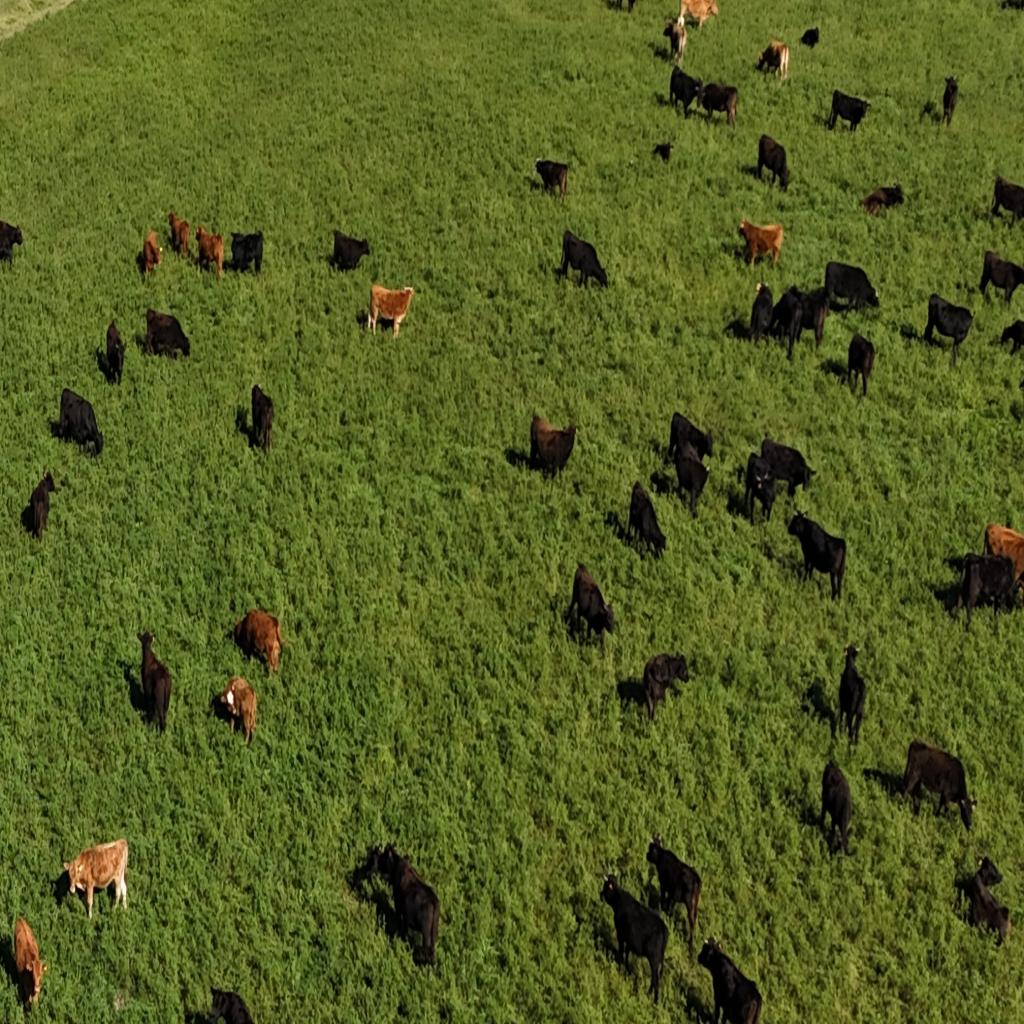cow: (599, 873, 668, 1004), (375, 843, 442, 969), (645, 835, 702, 951), (902, 740, 974, 826), (696, 936, 760, 1022), (787, 510, 845, 603), (62, 839, 128, 917), (959, 854, 1011, 946), (956, 552, 1019, 626), (567, 564, 614, 654), (234, 608, 294, 675), (137, 629, 173, 735), (924, 294, 976, 366), (52, 388, 104, 458), (758, 437, 818, 496), (642, 650, 691, 722), (820, 758, 854, 860), (530, 414, 579, 482), (983, 522, 1024, 603), (14, 916, 48, 1013), (627, 480, 667, 562), (838, 643, 868, 750), (558, 230, 608, 292), (825, 261, 881, 314), (216, 677, 257, 748), (674, 443, 711, 519), (141, 308, 191, 362), (368, 282, 416, 338), (770, 286, 805, 359), (744, 449, 777, 525), (668, 412, 713, 467), (241, 384, 276, 454), (23, 472, 57, 544), (979, 250, 1024, 304), (94, 317, 127, 387), (796, 285, 830, 352), (738, 220, 783, 269), (930, 72, 967, 128), (698, 81, 739, 129), (758, 134, 792, 191), (828, 90, 872, 134), (669, 66, 703, 118), (847, 332, 874, 396), (208, 986, 254, 1023), (227, 230, 263, 277), (332, 230, 372, 272), (991, 176, 1024, 226), (750, 282, 774, 348), (196, 224, 224, 280), (858, 184, 904, 218), (533, 158, 569, 200), (756, 40, 790, 84), (135, 229, 162, 283), (998, 320, 1023, 376), (676, 0, 717, 34), (663, 15, 687, 69), (167, 210, 191, 260), (0, 219, 23, 269), (652, 141, 673, 163), (800, 26, 820, 48)
